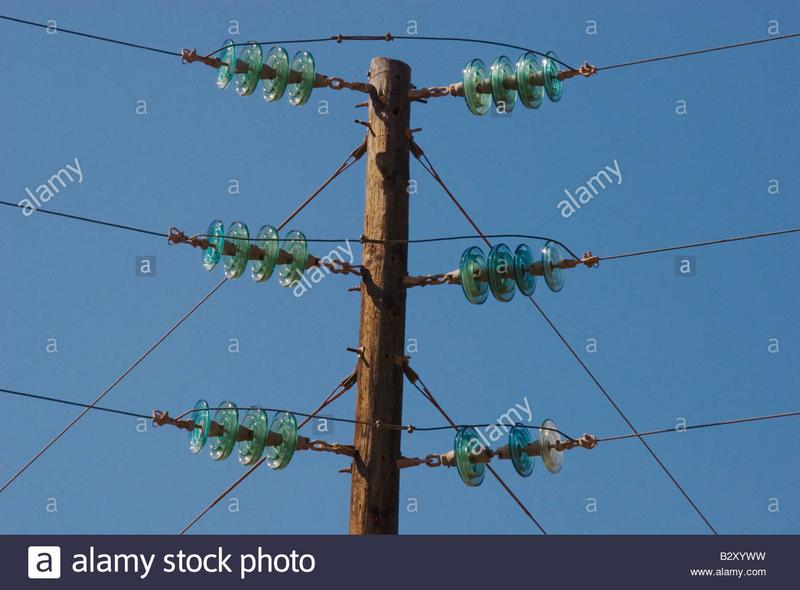gap: (455, 422, 536, 487)
isolator: (187, 399, 297, 471), (454, 418, 564, 488), (201, 219, 309, 290), (215, 37, 316, 108), (460, 49, 564, 117), (460, 240, 565, 305)
